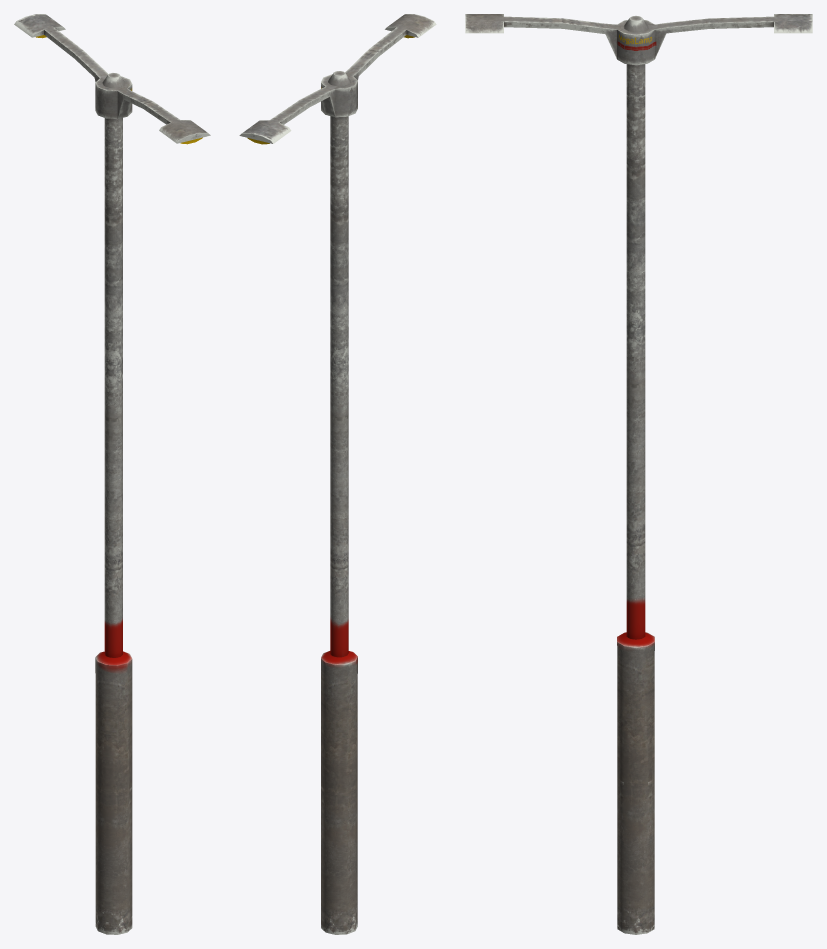
Rendered from LampStolb.FBX.
3 views of the same model, side by side, from view 1: azimuth 30°, elevation 25°; view 2: azimuth 150°, elevation 25°; view 3: azimuth 270°, elevation 25° (orthographic). The views are drawn at different scales.
Visible parts, largest first — view 1: Cylinder001; view 2: Cylinder001; view 3: Cylinder001.
Boxes of the visible parts, <box> form: Cylinder001: <box>14,14,210,934</box>; Cylinder001: <box>239,14,436,934</box>; Cylinder001: <box>465,14,812,934</box>.
Size of the model in its own units: 2.1 by 50.48 by 17.5.
